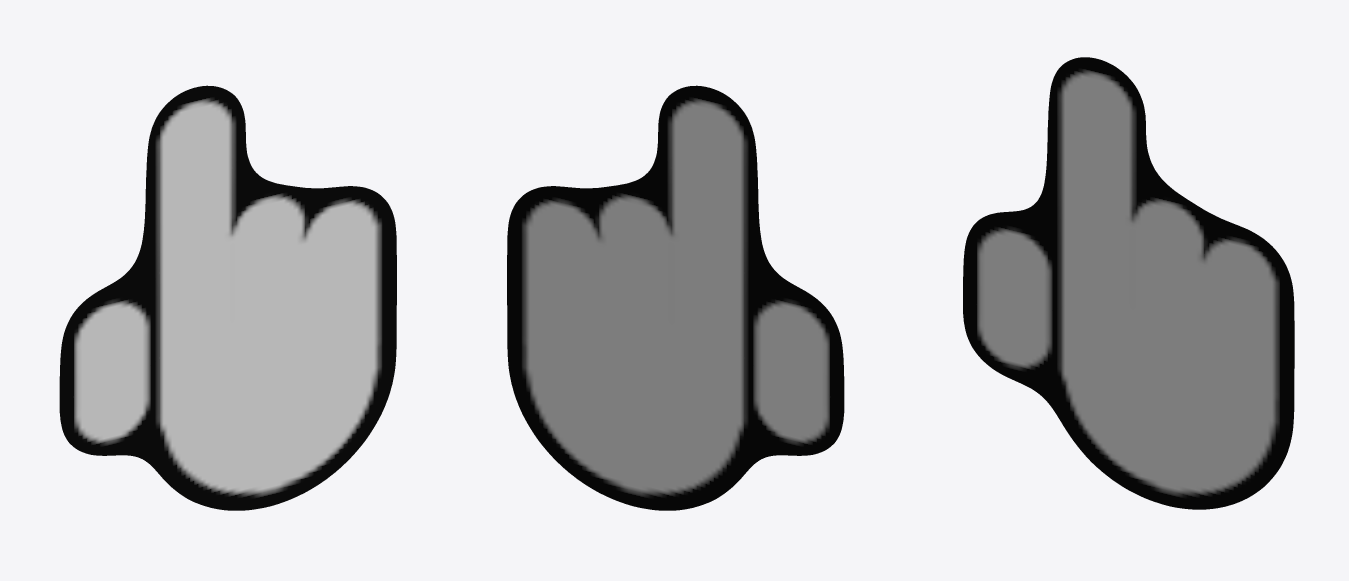
File: cursor_hand_ready.fbx
The picture shows the model from 3 angles, left to right: view 1: azimuth 30°, elevation 25°; view 2: azimuth 150°, elevation 25°; view 3: azimuth 330°, elevation 25°; orthographic projection.
Parts seen in each view (by area): view 1: cursor_sizeNorthSouth_ring_interaction; view 2: cursor_sizeNorthSouth_ring_interaction; view 3: cursor_sizeNorthSouth_ring_interaction.
Part boxes in pixels (<box>): cursor_sizeNorthSouth_ring_interaction: <box>59,85,396,510</box>; cursor_sizeNorthSouth_ring_interaction: <box>507,85,844,510</box>; cursor_sizeNorthSouth_ring_interaction: <box>963,57,1294,509</box>.
Bounding box in the file's own units: 2.21 × 1.12e-07 × 2.55.
1 material, 1 textured.
